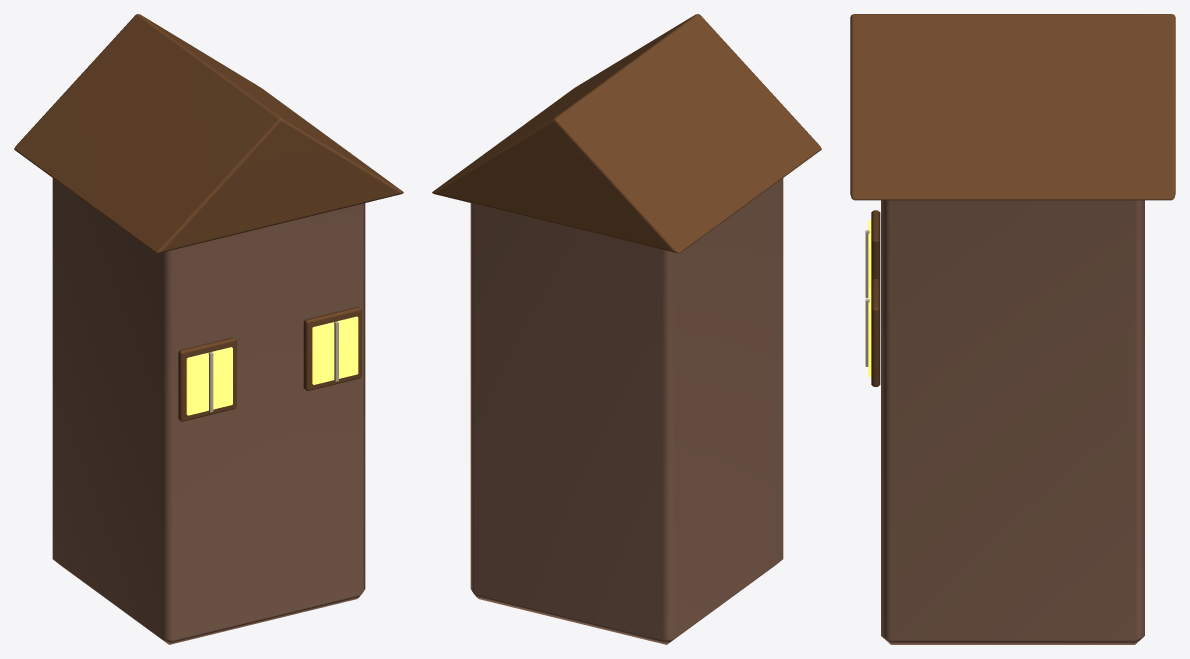
File: chilli_shrine.glb
3 views of the same model, side by side, from view 1: azimuth 30°, elevation 25°; view 2: azimuth 150°, elevation 25°; view 3: azimuth 270°, elevation 25° (orthographic). The views are drawn at different scales.
Visible parts, largest first — view 1: chilli_shrine; view 2: chilli_shrine; view 3: chilli_shrine.
Boxes of the visible parts, <box> form: chilli_shrine: <box>14,14,403,644</box>; chilli_shrine: <box>432,14,821,644</box>; chilli_shrine: <box>850,14,1175,644</box>.
Size of the model in its own units: 3.16 by 6.29 by 3.2.
